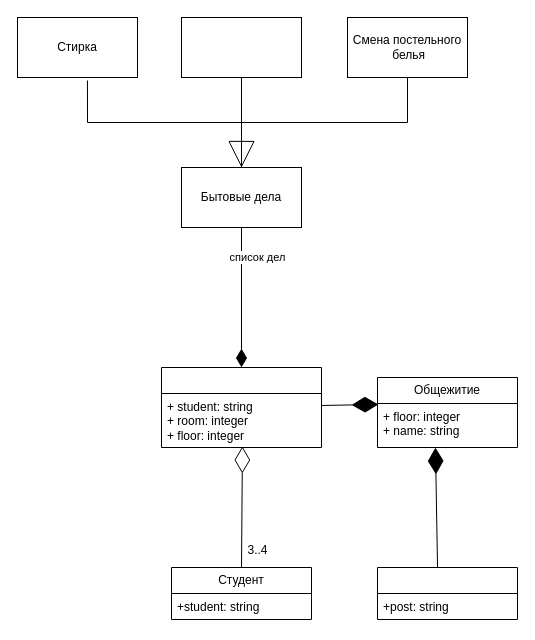
This 535x640 diagram has some shape labels left out. The shapes that lost their labels are listed below. From the top down, each one's box as (x1, y1, x2, y2) in pixels, then its label:
(180, 16, 302, 78): УБорка кухни
(160, 366, 322, 448): Комната
(376, 566, 518, 620): Персонал
